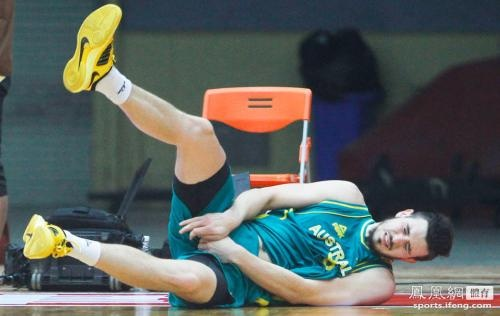falling: (37, 12, 456, 304)
